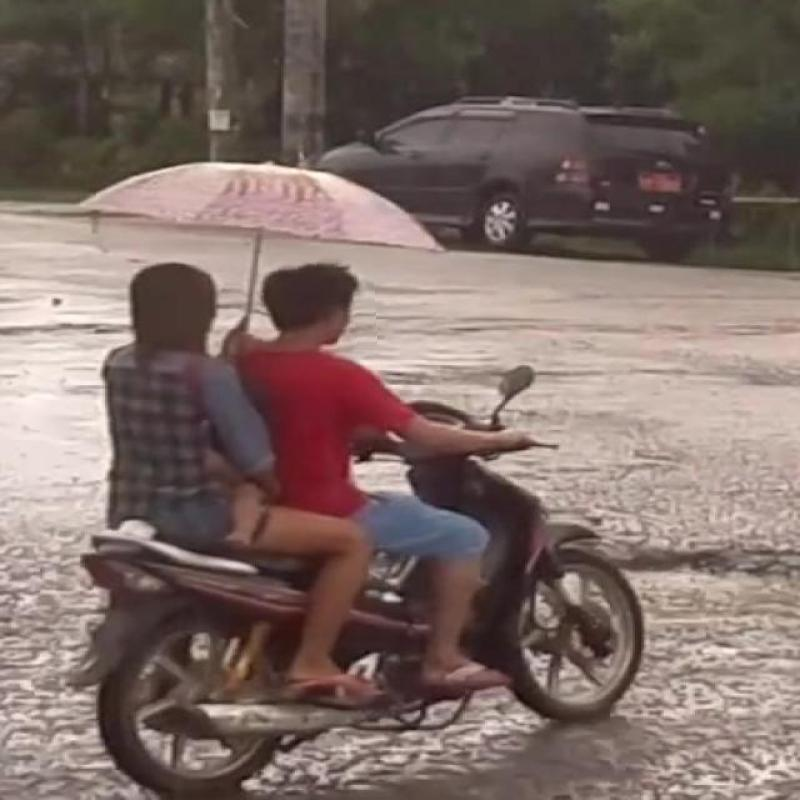nohelmet: (107, 246, 244, 350), (258, 249, 376, 352)
